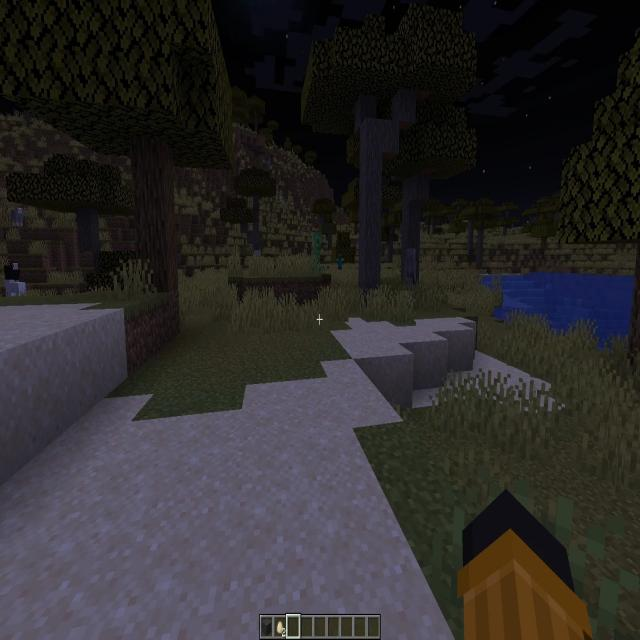Creeper: (312, 232, 322, 274)
Sheep: (8, 204, 22, 227), (6, 281, 26, 297), (4, 261, 20, 280)
Skeleton: (406, 251, 417, 291), (280, 195, 283, 208)
Zombie: (337, 256, 343, 273)
